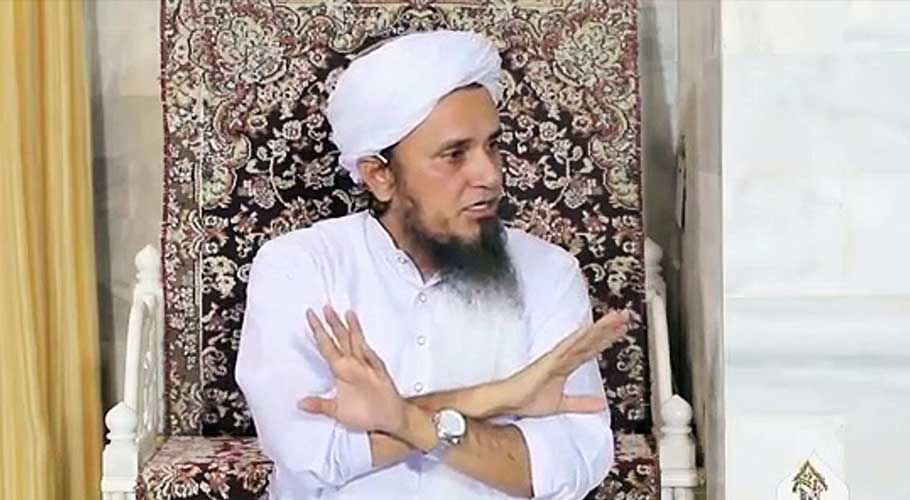NoMask: (419, 126, 505, 263)
